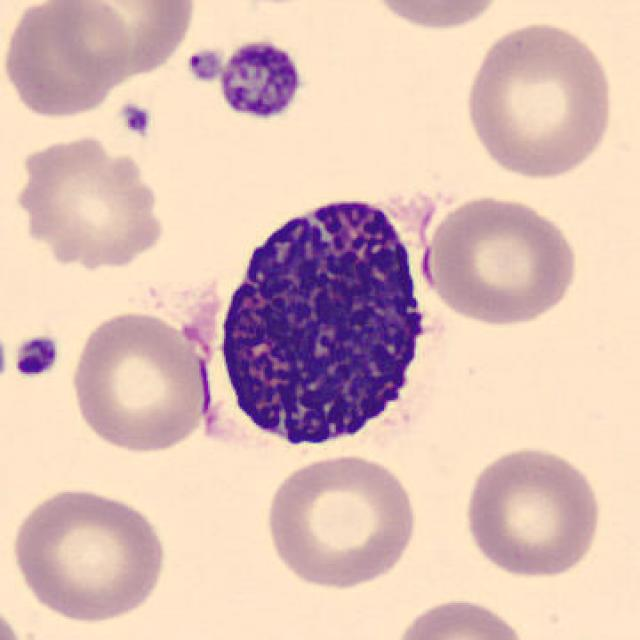Basophil: (201, 177, 451, 468)
Platelets: (215, 35, 306, 125), (9, 331, 62, 381), (185, 44, 224, 85), (117, 100, 155, 138)
RBC: (458, 16, 618, 181), (7, 481, 171, 626), (7, 130, 171, 274), (259, 450, 422, 592), (66, 305, 215, 457), (418, 190, 581, 328), (459, 441, 606, 582), (0, 0, 130, 120), (50, 0, 199, 81), (388, 594, 530, 640), (361, 0, 512, 33), (0, 594, 30, 640)
